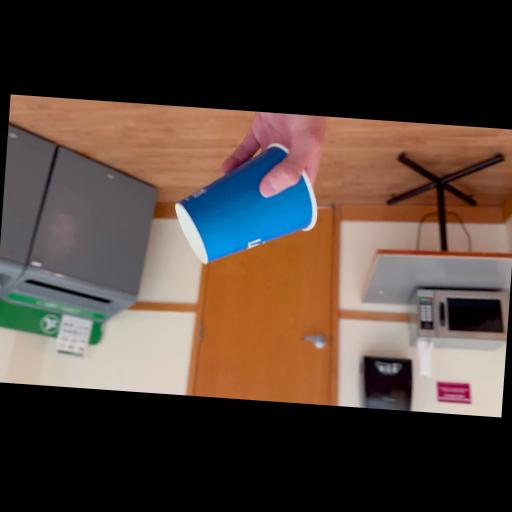lp_paper_cup: (172, 138, 324, 274)
